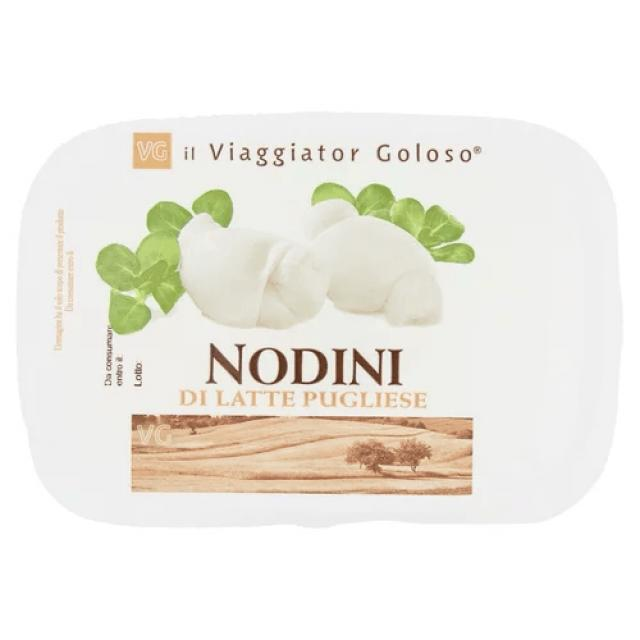Cheese: (15, 109, 625, 532)
